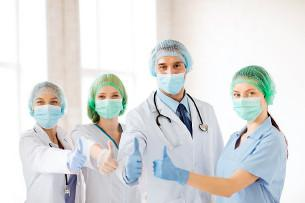OK: (231, 87, 266, 122), (33, 96, 65, 128), (96, 89, 123, 118)
WRONG: (155, 61, 187, 93)
